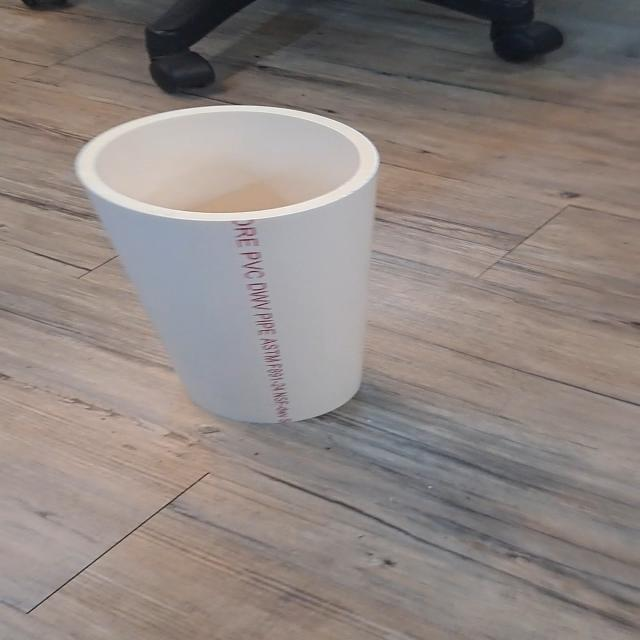CORAL: (78, 97, 412, 432)
